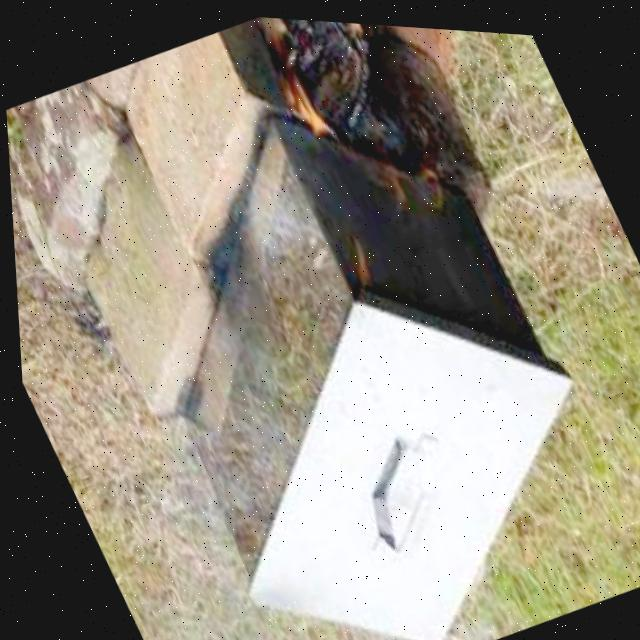Fire: (236, 12, 359, 166), (351, 112, 470, 232)
